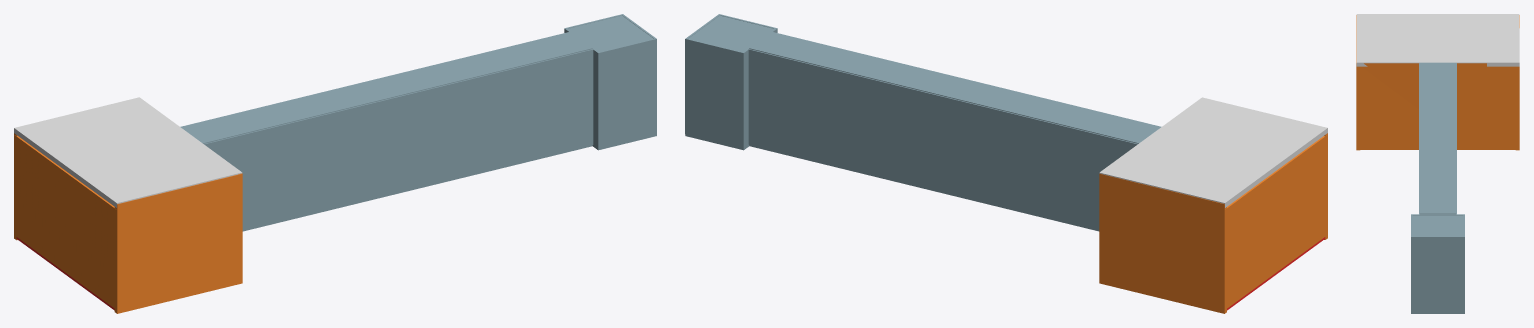
File: Level1Complete.fbx
The picture shows the model from 3 angles, left to right: view 1: azimuth 30°, elevation 25°; view 2: azimuth 150°, elevation 25°; view 3: azimuth 270°, elevation 25°; orthographic projection. The views are drawn at different scales.
Parts seen in each view (by area): view 1: LeftPassageWall, StageWallRight, StageRoof, StageWallBack, PassageRoof, BedroomWallLeft, BedroomRoof, PassageFloor, BedroomWallFront; view 2: RightPassageWall, StageWallLeft, StageRoof, StageWallBack, PassageRoof, BedroomWallRight, BedroomRoof, PassageFloor, BedroomWallFront; view 3: StageWallFront, StageRoof, PassageRoof, BedroomWallBack, BedroomRoof, StageWallRight, StageWallLeft, RightPassageWall, LeftPassageWall.
Boxes of the visible parts, x1,y1,x2,y2 form: LeftPassageWall: [204, 49, 593, 229]; StageWallRight: [114, 173, 242, 313]; StageRoof: [14, 97, 242, 207]; StageWallBack: [14, 135, 116, 309]; PassageRoof: [180, 32, 592, 143]; BedroomWallLeft: [597, 38, 656, 148]; BedroomRoof: [568, 15, 652, 51]; PassageFloor: [242, 145, 592, 231]; BedroomWallFront: [565, 28, 598, 147]; RightPassageWall: [748, 49, 1137, 229]; StageWallLeft: [1099, 173, 1226, 313]; StageRoof: [1099, 97, 1327, 207]; StageWallBack: [1225, 134, 1327, 309]; PassageRoof: [749, 32, 1161, 143]; BedroomWallRight: [685, 38, 744, 148]; BedroomRoof: [689, 15, 773, 51]; PassageFloor: [749, 145, 1099, 231]; BedroomWallFront: [742, 28, 776, 147]; StageWallFront: [1360, 63, 1515, 149]; StageRoof: [1356, 14, 1519, 66]; PassageRoof: [1420, 62, 1455, 214]; BedroomWallBack: [1411, 236, 1464, 312]; BedroomRoof: [1412, 215, 1463, 236]; StageWallRight: [1356, 15, 1360, 150]; StageWallLeft: [1515, 15, 1519, 150]; RightPassageWall: [1456, 63, 1456, 214]; LeftPassageWall: [1419, 63, 1419, 214].
Bounding box in the file's own units: 6551 × 1207 × 2040.
